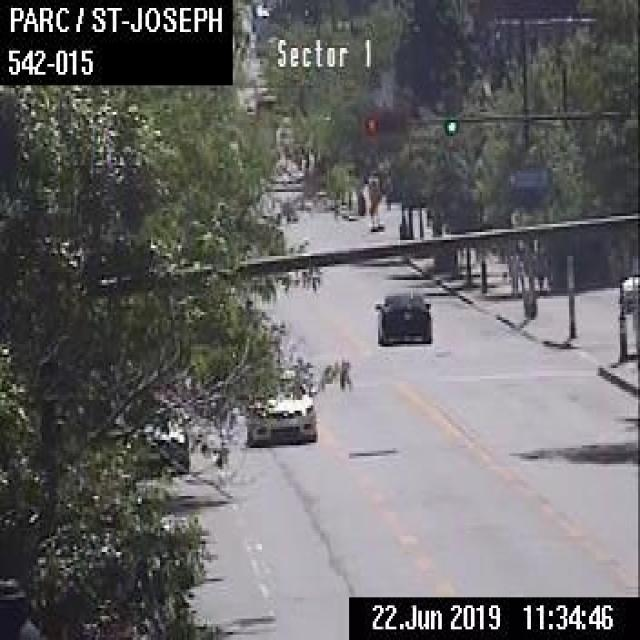vehicle: (242, 369, 314, 445), (122, 416, 188, 473), (372, 290, 431, 344)
